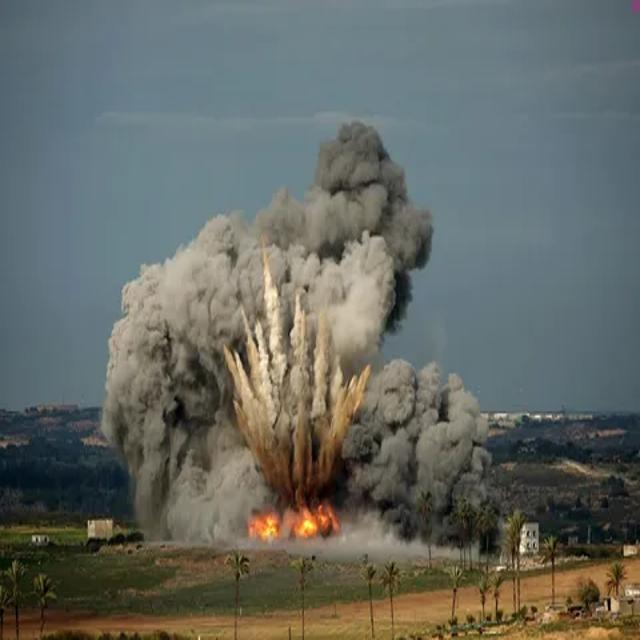Smoke: (98, 120, 502, 548)
